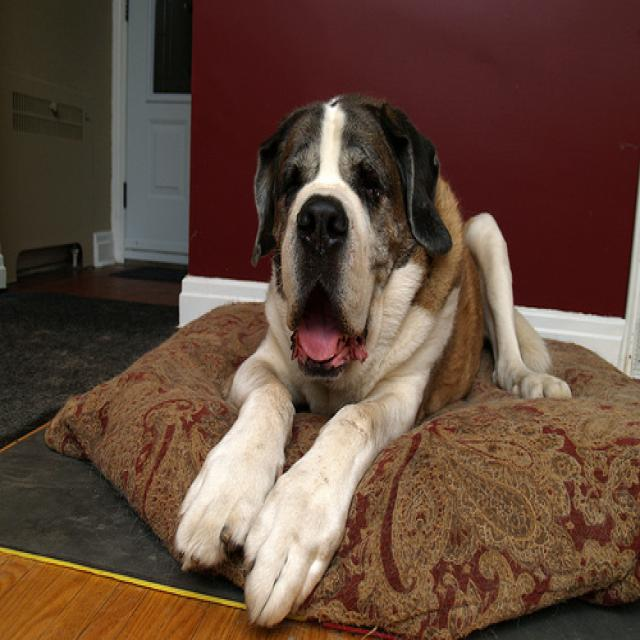dog-saint_bernard: (166, 75, 570, 635)
